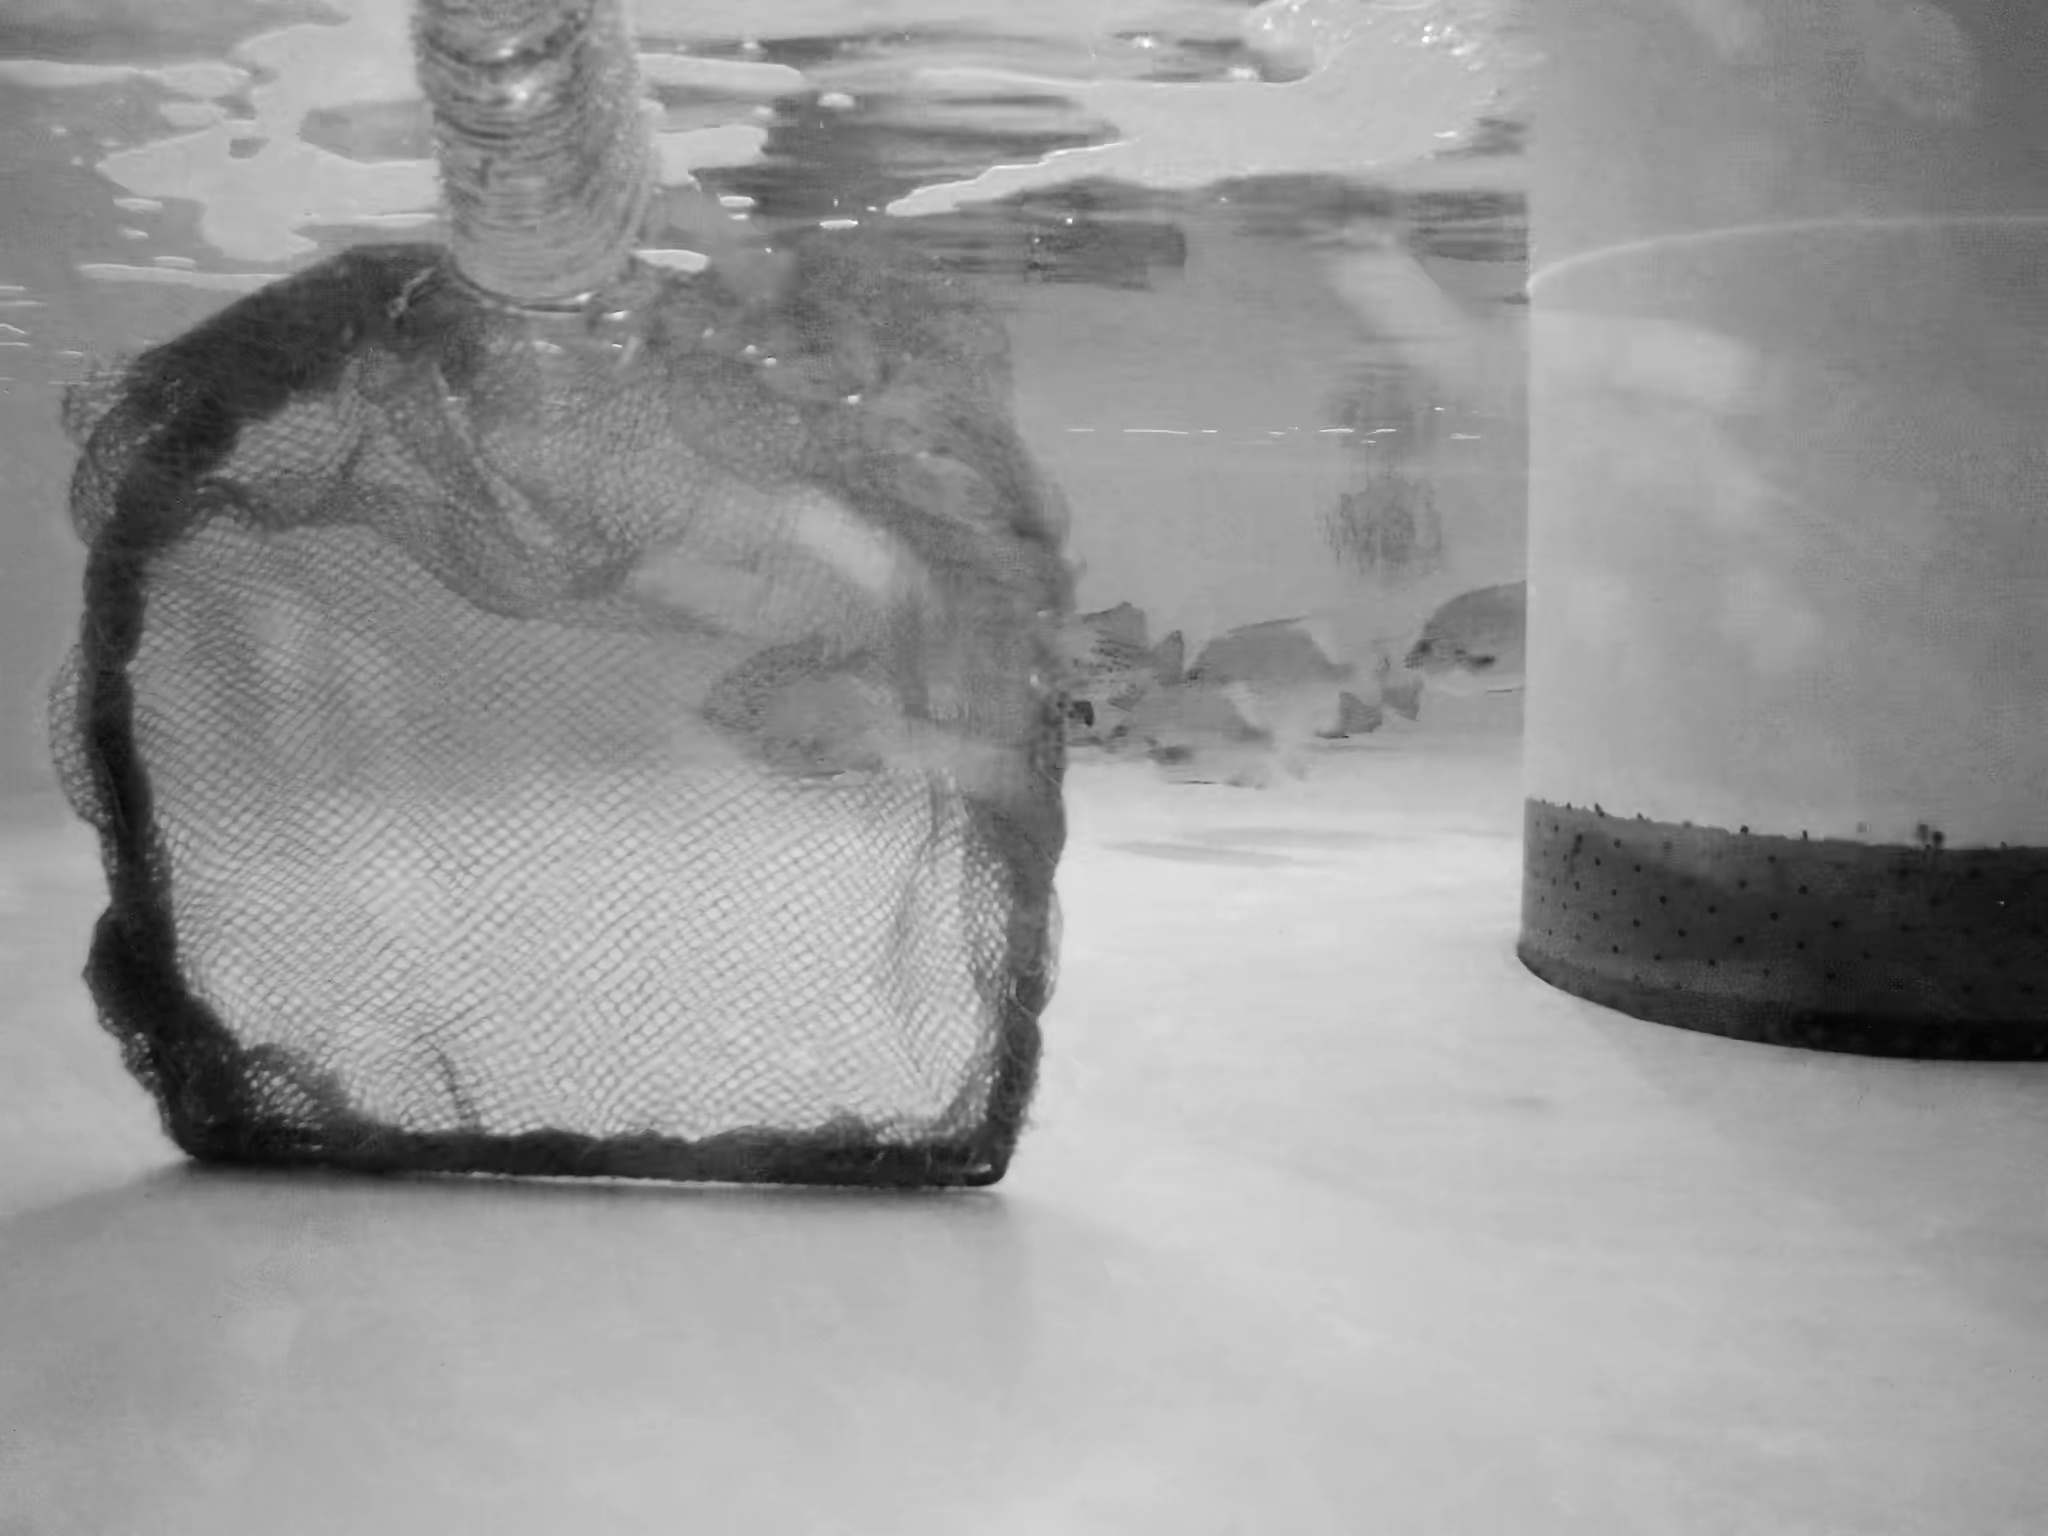fish: (687, 639, 922, 778), (1193, 628, 1393, 742), (1103, 682, 1287, 794), (918, 657, 1098, 749), (1006, 607, 1190, 687), (1406, 579, 1524, 699), (1316, 670, 1422, 741)
